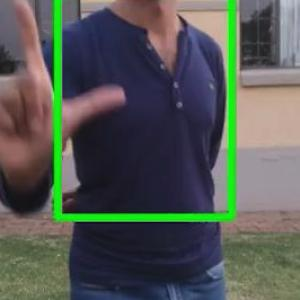land_hand: (0, 0, 130, 168)
